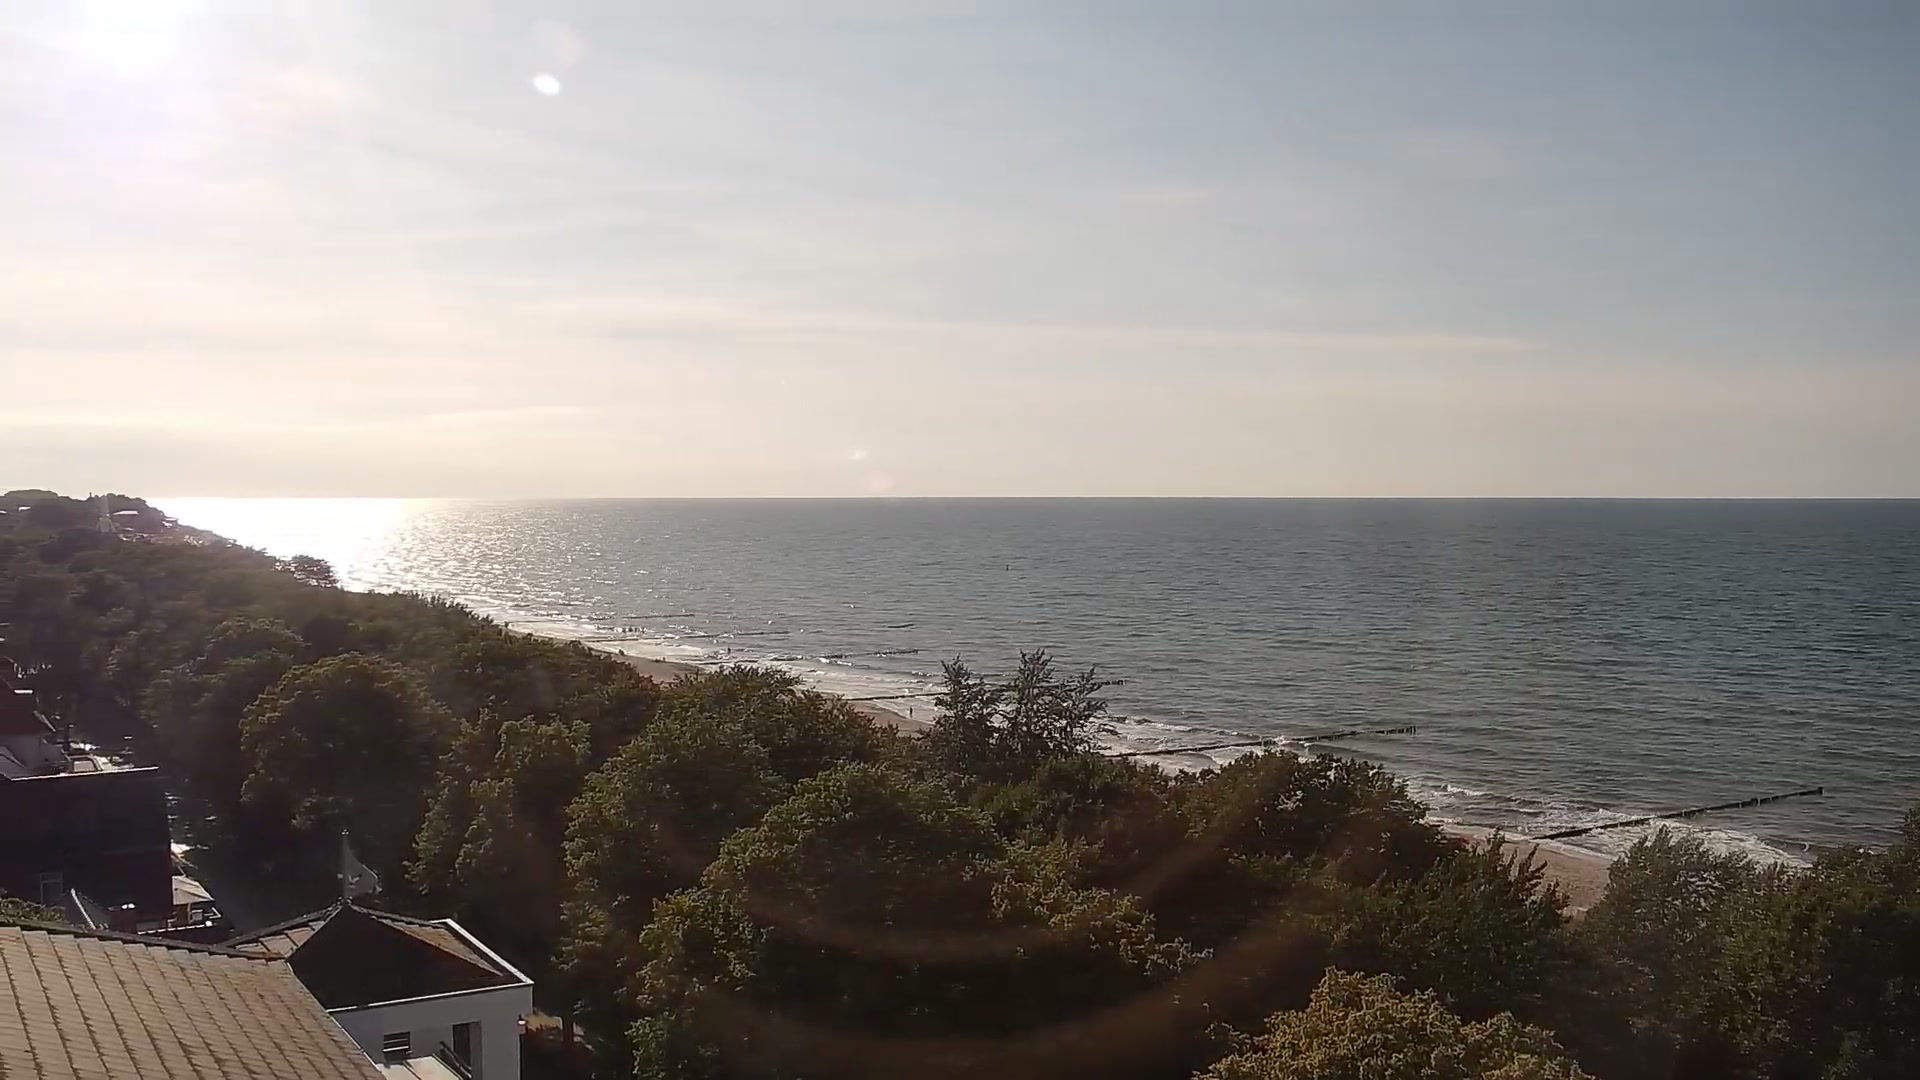human: (909, 705, 913, 717)
